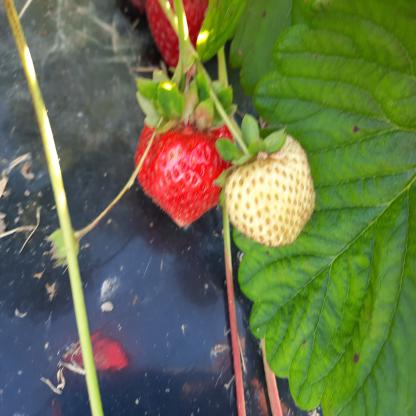ripe: (139, 118, 233, 233), (154, 0, 212, 72)
unripe: (228, 138, 315, 237)
